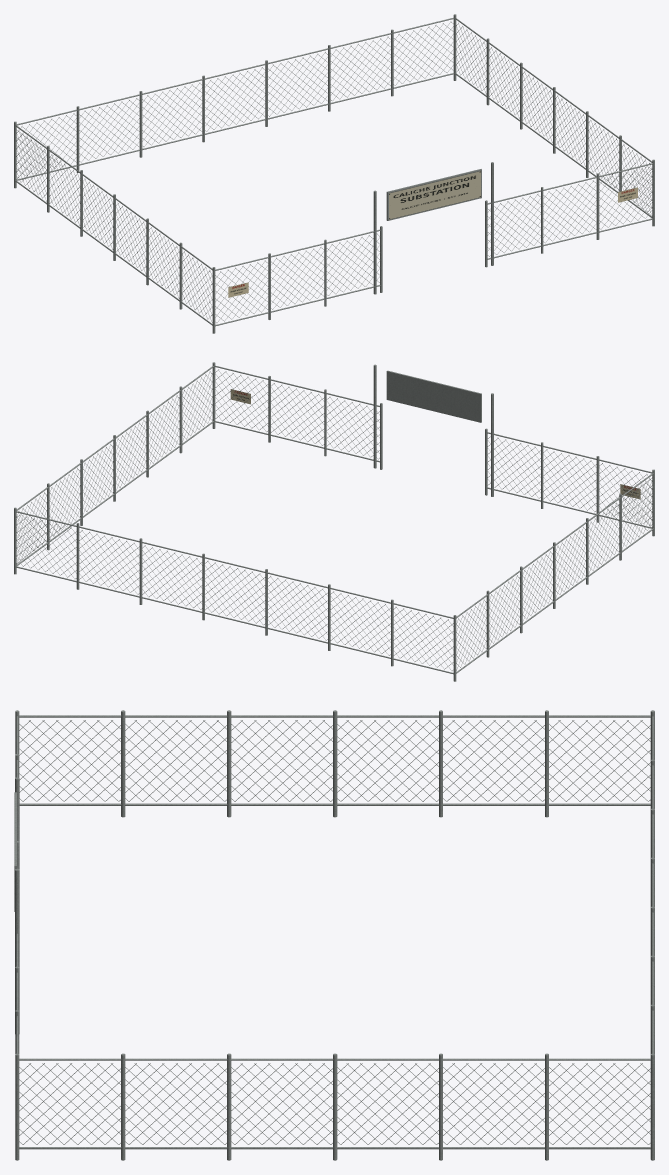
File: SM_Substation_Fence_LOD1.fbx
3 renders of one model, top to bottom at view 1: azimuth 30°, elevation 25°; view 2: azimuth 150°, elevation 25°; view 3: azimuth 270°, elevation 25°, orthographic. The views are drawn at different scales.
Visible parts, largest first — view 1: SM_Substation_Fence_LOD1; view 2: SM_Substation_Fence_LOD1; view 3: SM_Substation_Fence_LOD1.
Part boxes in pixels (x1,y1,x2,y2): SM_Substation_Fence_LOD1: (14,14,654,333); SM_Substation_Fence_LOD1: (14,362,654,681); SM_Substation_Fence_LOD1: (14,710,654,1160).
Size of the model in its own units: 18.5 by 14.52 by 4.1.
